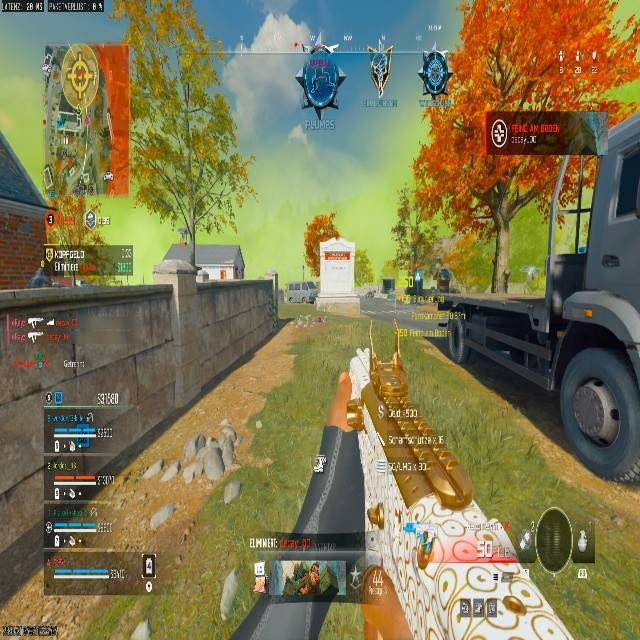player: (368, 47, 390, 101), (366, 287, 375, 298)
